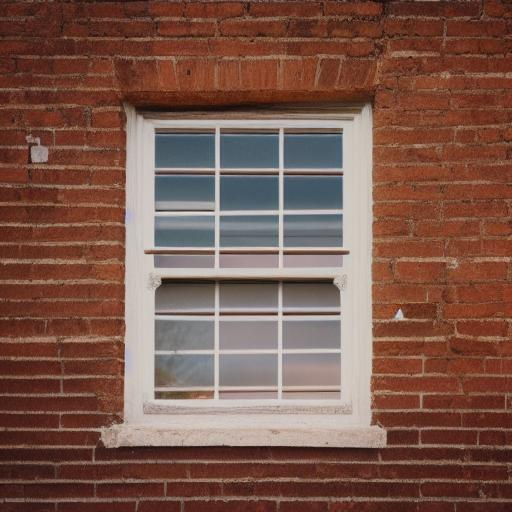Window: (101, 59, 387, 451)
